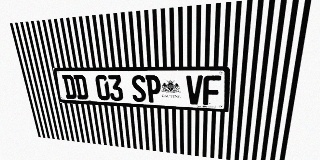0: (95, 75, 110, 101)
3: (108, 75, 123, 101)
D: (73, 75, 89, 100), (62, 75, 77, 99)
F: (203, 75, 221, 106)
P: (145, 75, 161, 103)
S: (131, 75, 147, 102)
V: (186, 75, 203, 105)
